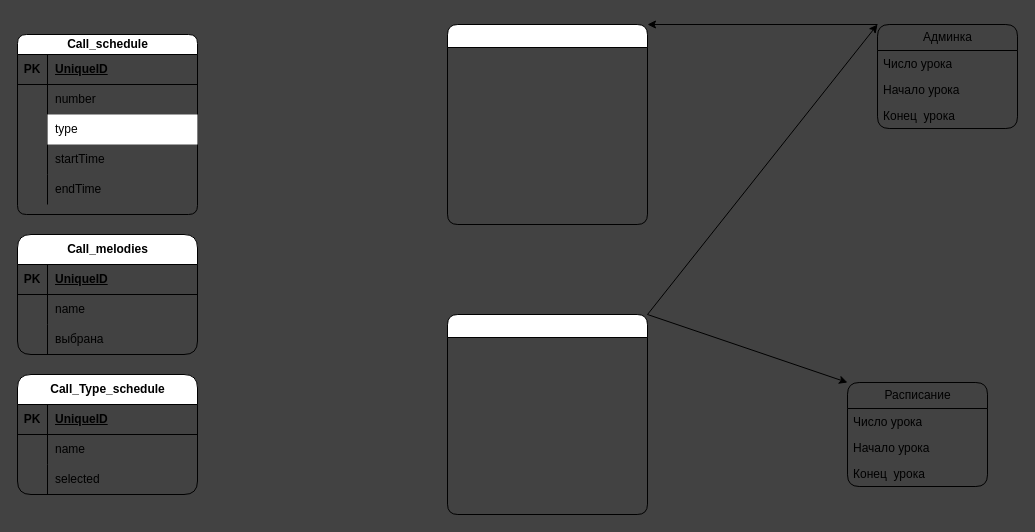
Some shapes in this 1035 by 532 pixel diagram are drawn without their labels. The centre of each missing label's shape, as x and y in pixels:
"В базу данных" belongs at pixel 547 124.
"Обработка на страницу" belongs at pixel 547 414.
